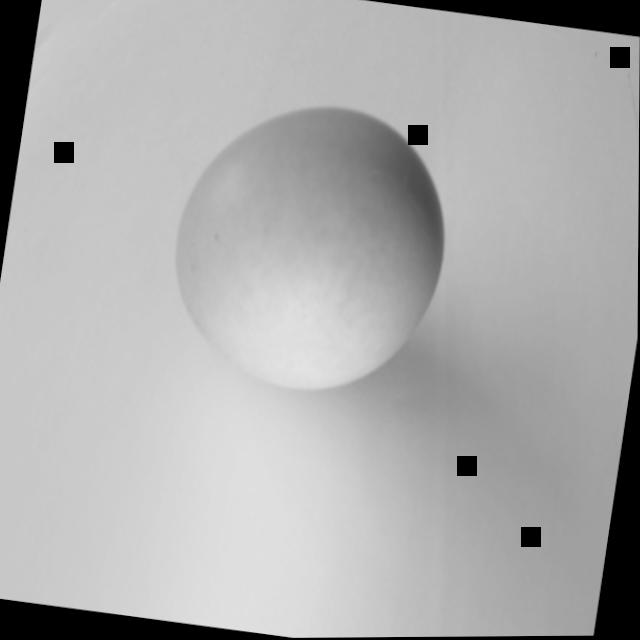Egg: (116, 63, 488, 445)
